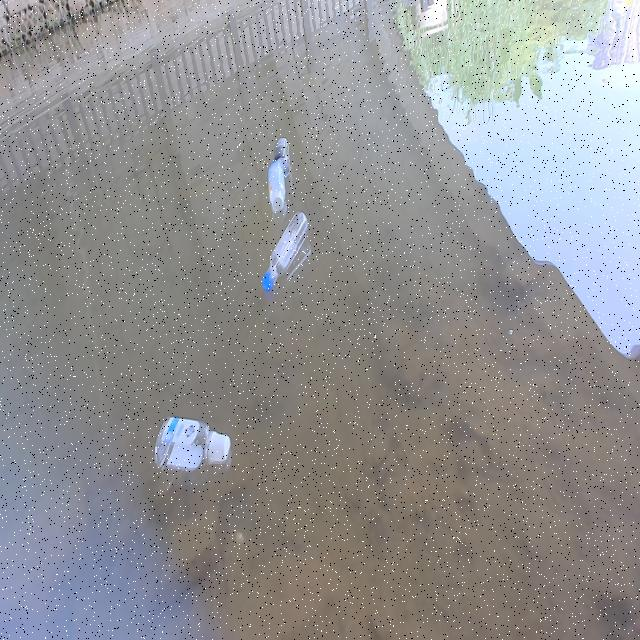Bottle: (153, 410, 232, 475), (259, 209, 310, 292), (266, 157, 286, 212)
Can: (271, 132, 288, 168)
